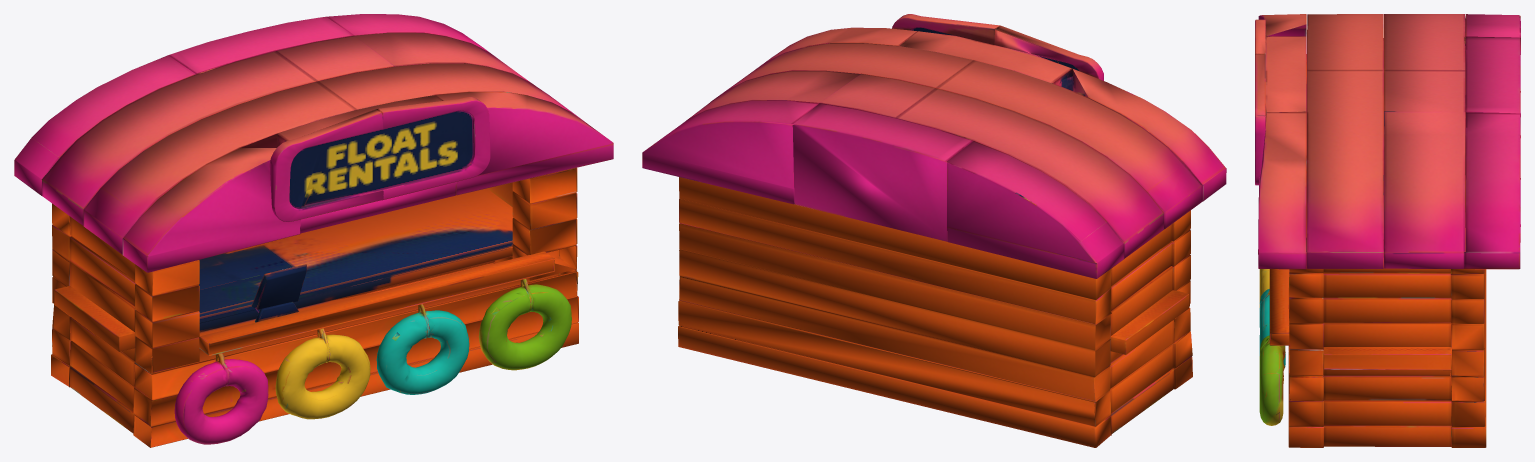
The model's file is float-hut.glb.
3 views of the same model, side by side, from view 1: azimuth 30°, elevation 25°; view 2: azimuth 150°, elevation 25°; view 3: azimuth 270°, elevation 25° (orthographic). The views are drawn at different scales.
Size of the model in its own units: 0.9536 by 0.583 by 0.478.
Materials: 1 (1 with a texture image).
